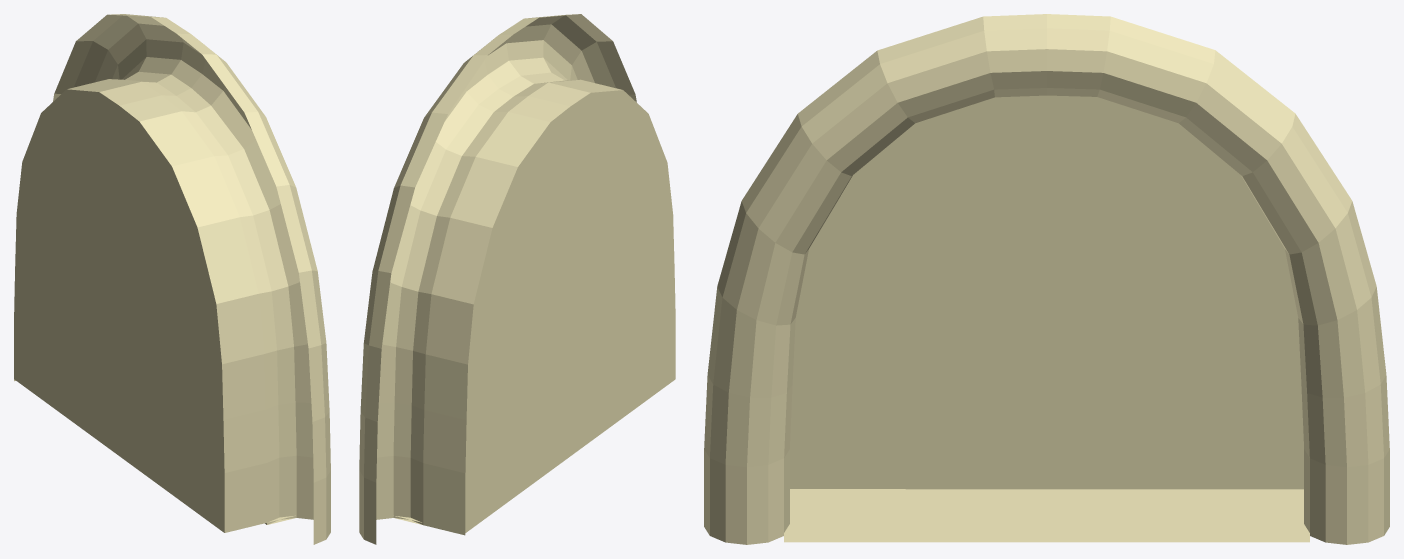
File: nisha.fbx
3 views of the same model, side by side, from view 1: azimuth 30°, elevation 25°; view 2: azimuth 150°, elevation 25°; view 3: azimuth 270°, elevation 25° (orthographic). The views are drawn at different scales.
Parts seen in each view (by area): view 1: Cube; view 2: Cube; view 3: Cube.
Part boxes in pixels (x1,y1,x2,y2): Cube: (14,14,330,544); Cube: (359,14,675,544); Cube: (704,14,1389,544).
Bounding box in the file's own units: 292 × 1320 × 1600.
